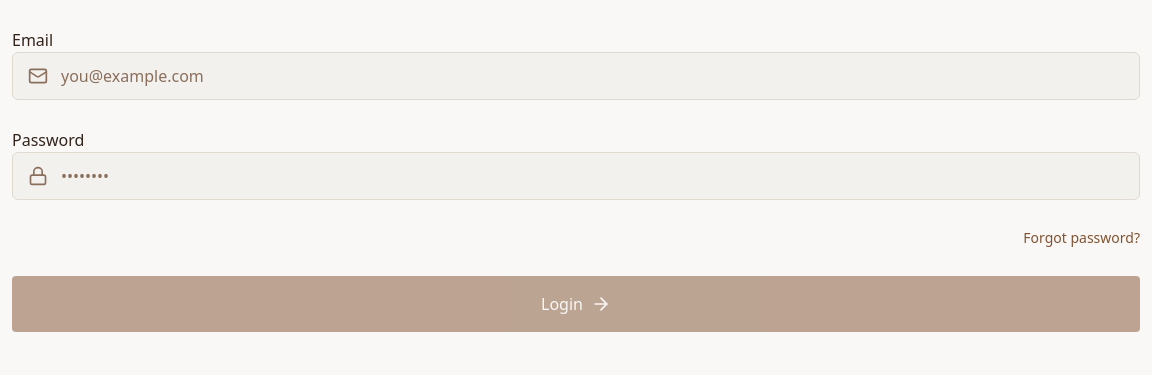
LoginForm › clears field error when user starts typing in that field
# Trigger validation error — submit with only email
Type "dan@test.com" into the field labelled "Email" at (576, 76), box [12,52,1140,100]
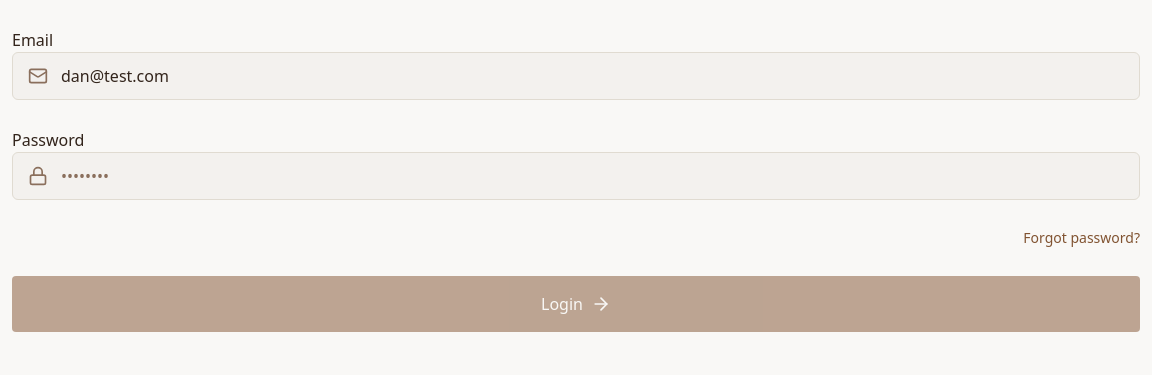
Submit the form labelled "Email"
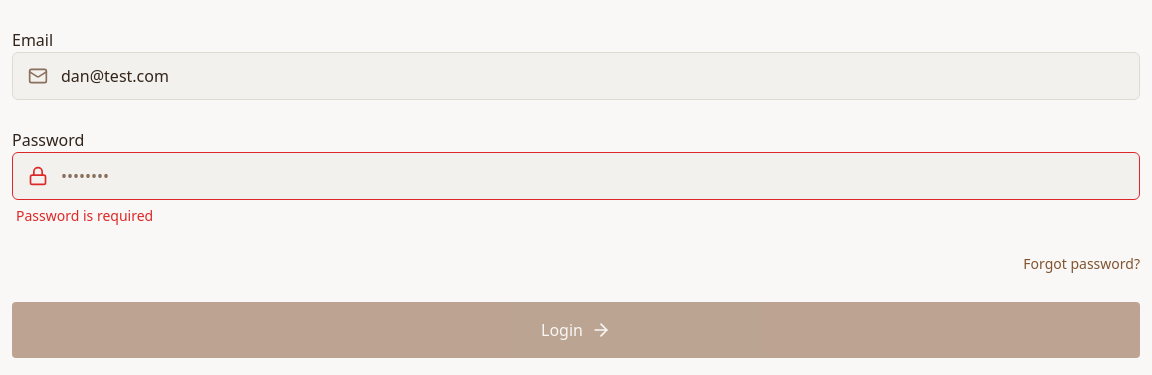
Expected: the text "Password is required" is shown, [16,206,153,225]
# Now type in password — error should clear
Type "Pass123!" into the password field labelled "Password" at (576, 176), box [12,152,1140,200]
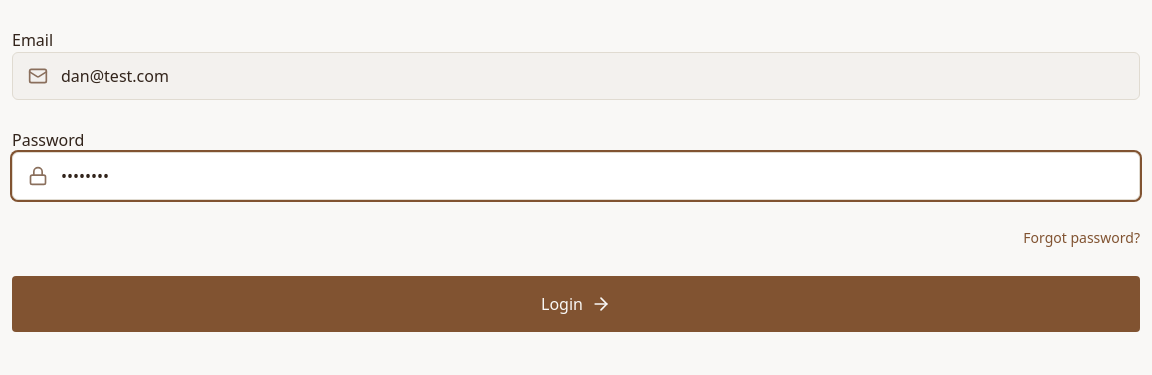
Expected: the text "Password is required" is gone
